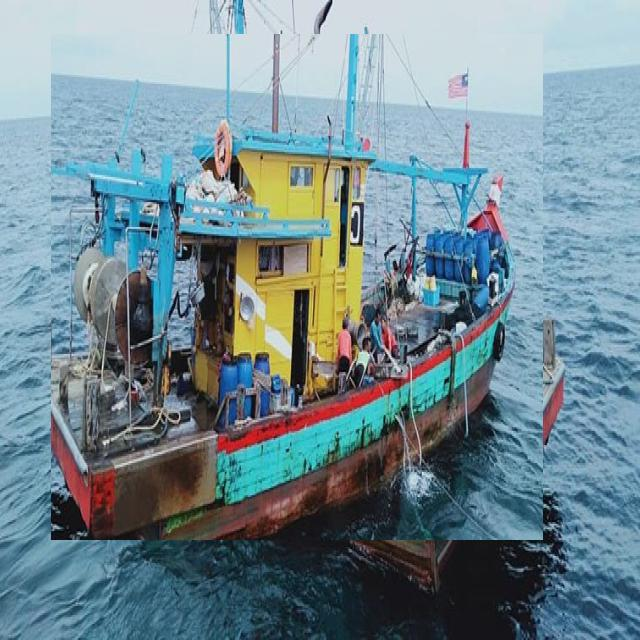Fishing Boat: (51, 34, 543, 540)
